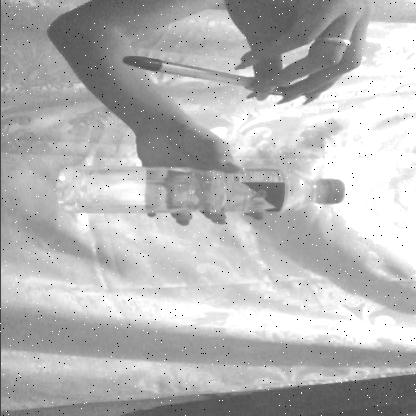Plastic Bottle: (31, 159, 362, 232)
